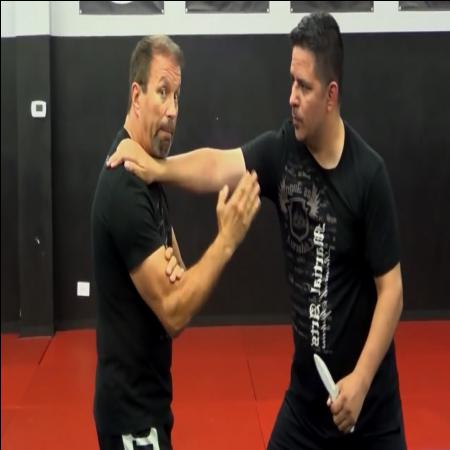long weapon: (310, 346, 356, 434)
